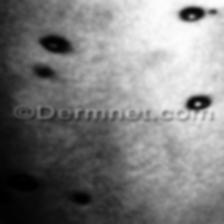Unclassified: (0, 30, 224, 108), (0, 167, 224, 224), (168, 0, 214, 22)
